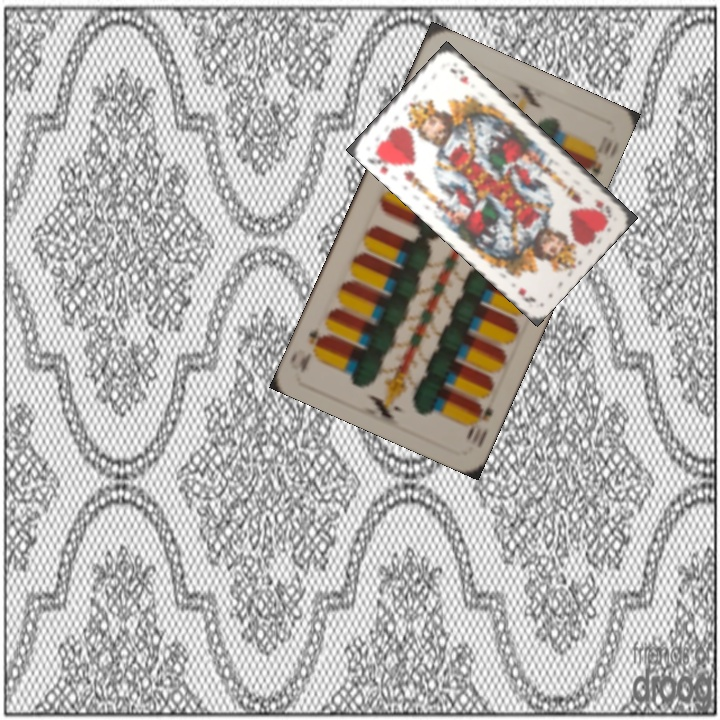E10: (462, 398, 495, 443)
HK: (362, 146, 397, 177), (590, 195, 614, 221)
